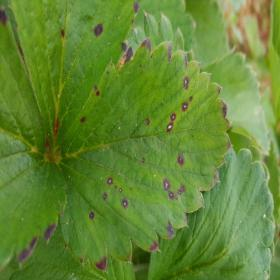Leaf Spot: (52, 37, 233, 273), (9, 0, 139, 154)
